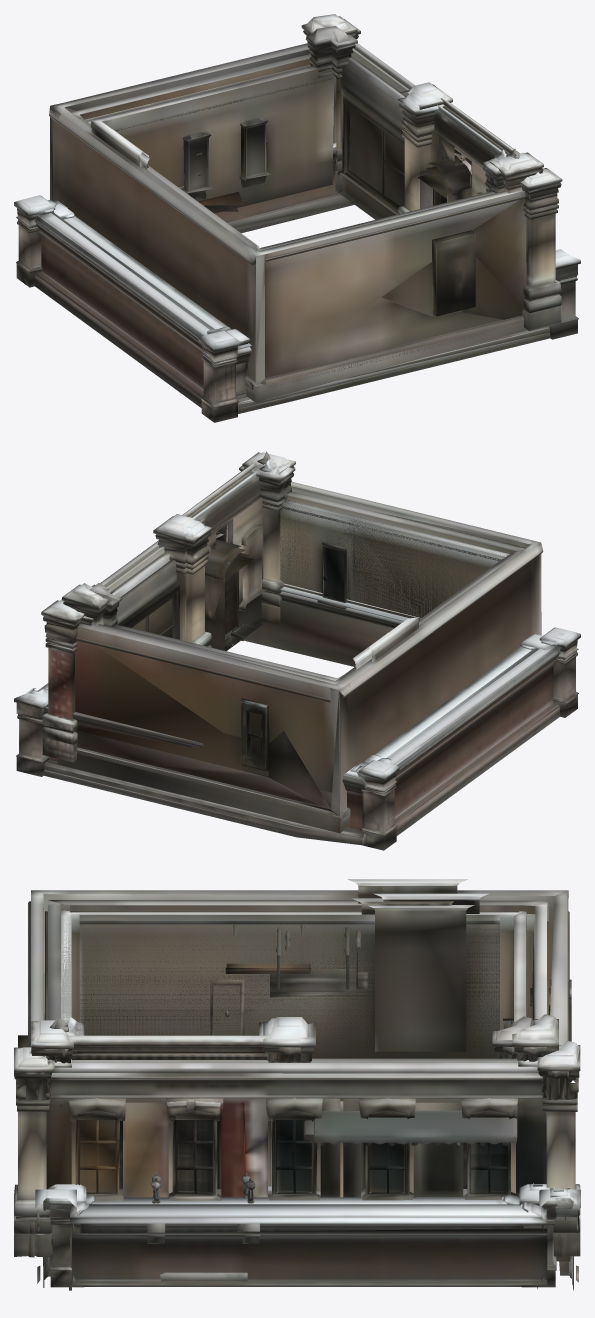
File: apartments-4k.glb
3 renders of one model, top to bottom at view 1: azimuth 30°, elevation 25°; view 2: azimuth 150°, elevation 25°; view 3: azimuth 270°, elevation 25°, orthographic. The views are drawn at different scales.
Visible parts, largest first — view 1: apt-ma-shell, apt-gb-shell, apt-ra-shell, apt-ga-shell, apt-rb-shell, apt-mb-shell; view 2: apt-ma-shell, apt-gb-shell, apt-ra-shell, apt-ga-shell, apt-rb-shell, apt-mb-shell; view 3: apt-ma-shell, apt-gb-shell, apt-ra-shell, apt-ga-shell, apt-rb-shell, apt-mb-shell.
Boxes of the visible parts, x1,y1,x2,y2 form: apt-ma-shell: (49,19,562,402); apt-gb-shell: (87,26,507,251); apt-ra-shell: (14,192,580,422); apt-ga-shell: (70,14,543,251); apt-rb-shell: (54,143,354,399); apt-mb-shell: (85,43,409,167); apt-ma-shell: (41,466,543,833); apt-gb-shell: (89,460,509,680); apt-ra-shell: (14,583,580,850); apt-ga-shell: (62,451,524,684); apt-rb-shell: (231,586,550,772); apt-mb-shell: (81,524,232,637); apt-ma-shell: (14,879,580,1261); apt-gb-shell: (61,905,533,1232); apt-ra-shell: (35,1014,580,1290); apt-ga-shell: (31,893,558,1281); apt-rb-shell: (48,1183,557,1287); apt-mb-shell: (54,898,550,1197).
Bounding box in the file's own units: 0.2729 × 0.1368 × 0.2791.
1 material, 1 textured.
